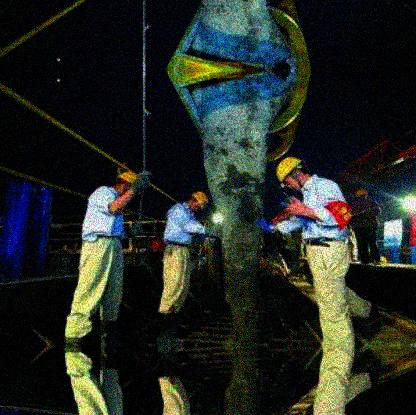helmet: (276, 156, 311, 189), (112, 169, 139, 193), (187, 191, 208, 212), (356, 189, 369, 200)
